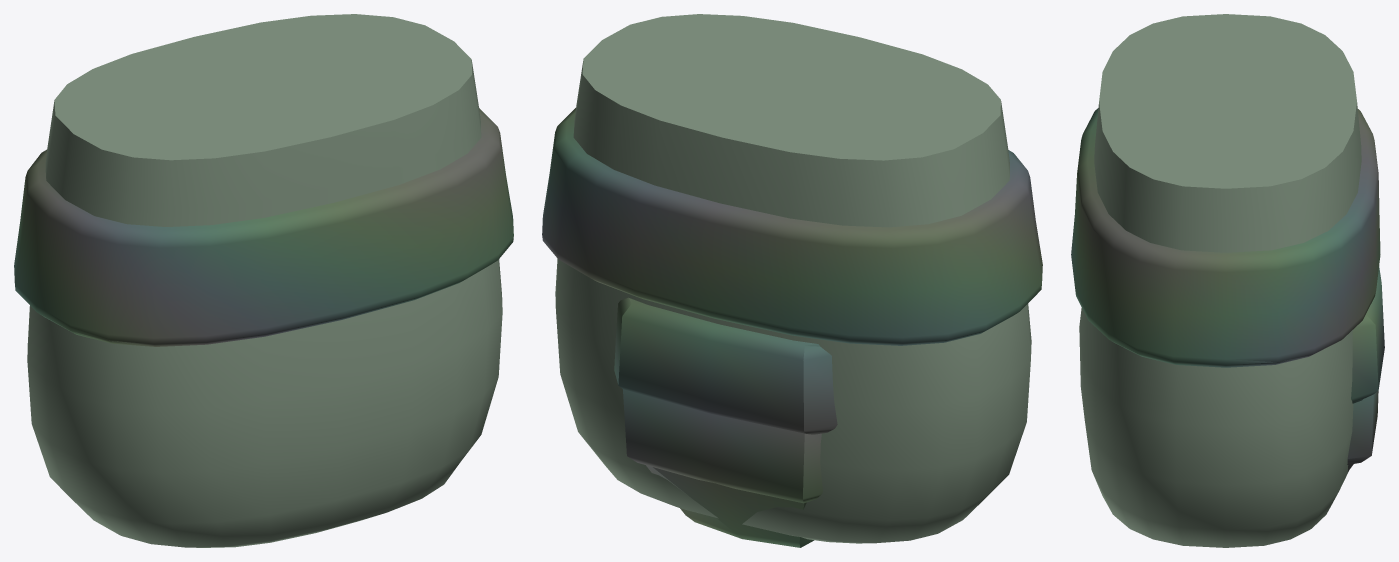
Rendered from pelvis.glb.
The picture shows the model from 3 angles, left to right: view 1: azimuth 30°, elevation 25°; view 2: azimuth 150°, elevation 25°; view 3: azimuth 270°, elevation 25°; orthographic projection. The views are drawn at different scales.
Parts seen in each view (by area): view 1: OUT; view 2: OUT; view 3: OUT.
Part boxes in pixels (<box>): OUT: <box>14,14,513,547</box>; OUT: <box>542,14,1042,547</box>; OUT: <box>1071,14,1384,547</box>.
Bounding box in the file's own units: 0.2984 × 0.26 × 0.1892.
